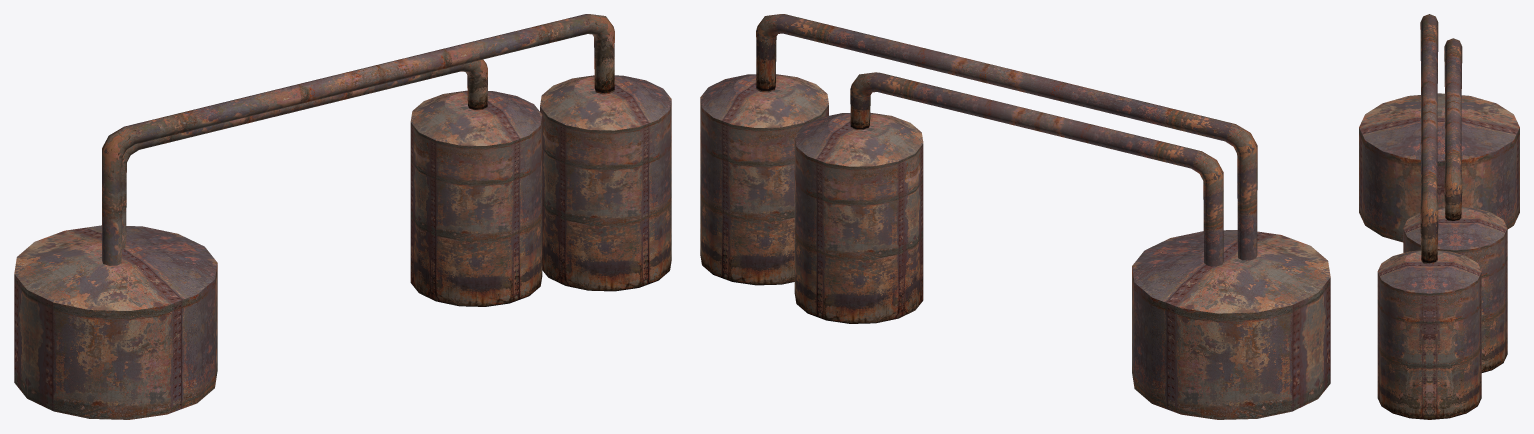
Rendered from Factory_Tank.fbx.
The picture shows the model from 3 angles, left to right: view 1: azimuth 30°, elevation 25°; view 2: azimuth 150°, elevation 25°; view 3: azimuth 270°, elevation 25°; orthographic projection. The views are drawn at different scales.
Parts seen in each view (by area): view 1: Factory_Tank; view 2: Factory_Tank; view 3: Factory_Tank.
Boxes of the visible parts, box(x1,y1,x2,y2) form: Factory_Tank: box(14, 14, 671, 419); Factory_Tank: box(700, 14, 1330, 419); Factory_Tank: box(1359, 14, 1519, 419).
Bounding box in the file's own units: 2002 × 770 × 564.
